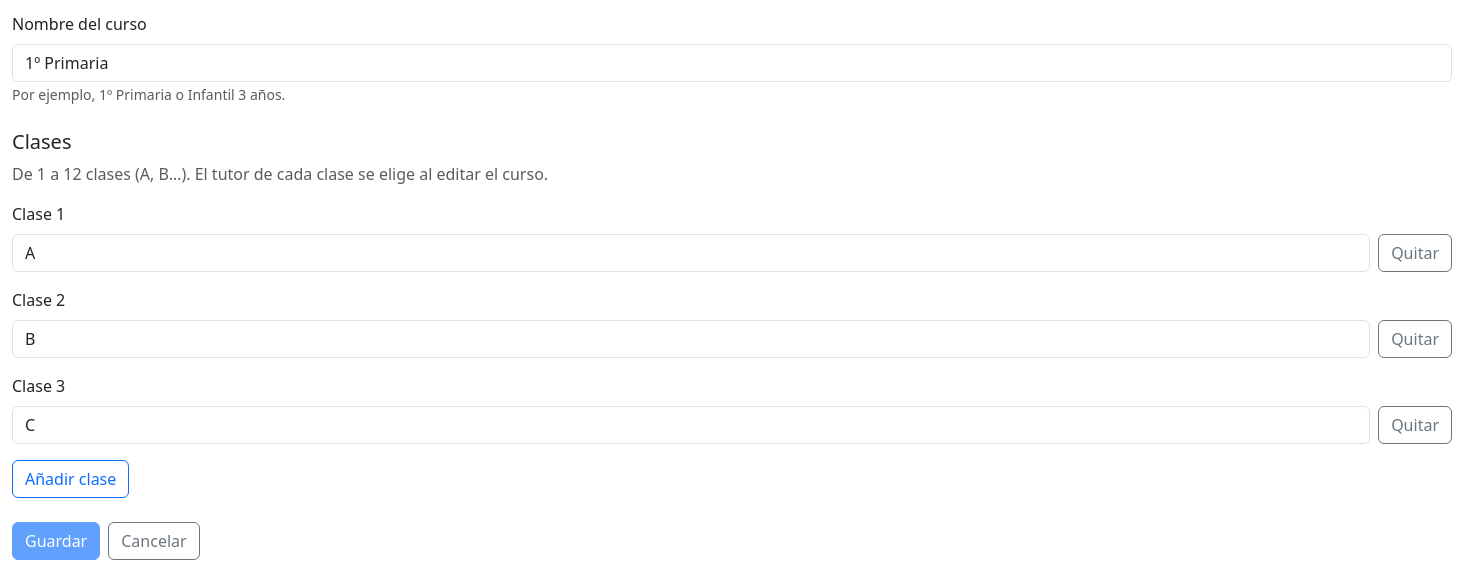
Test: CourseForm that requires changes › keeps Save disabled until something really changes
The width and height of the screenshot is (1464, 577).
Expected: the button "Guardar" is disabled, [12,522,100,560]
Type " Tarde" into the field labelled "Nombre del curso" at [732, 63], box [12,44,1452,82]
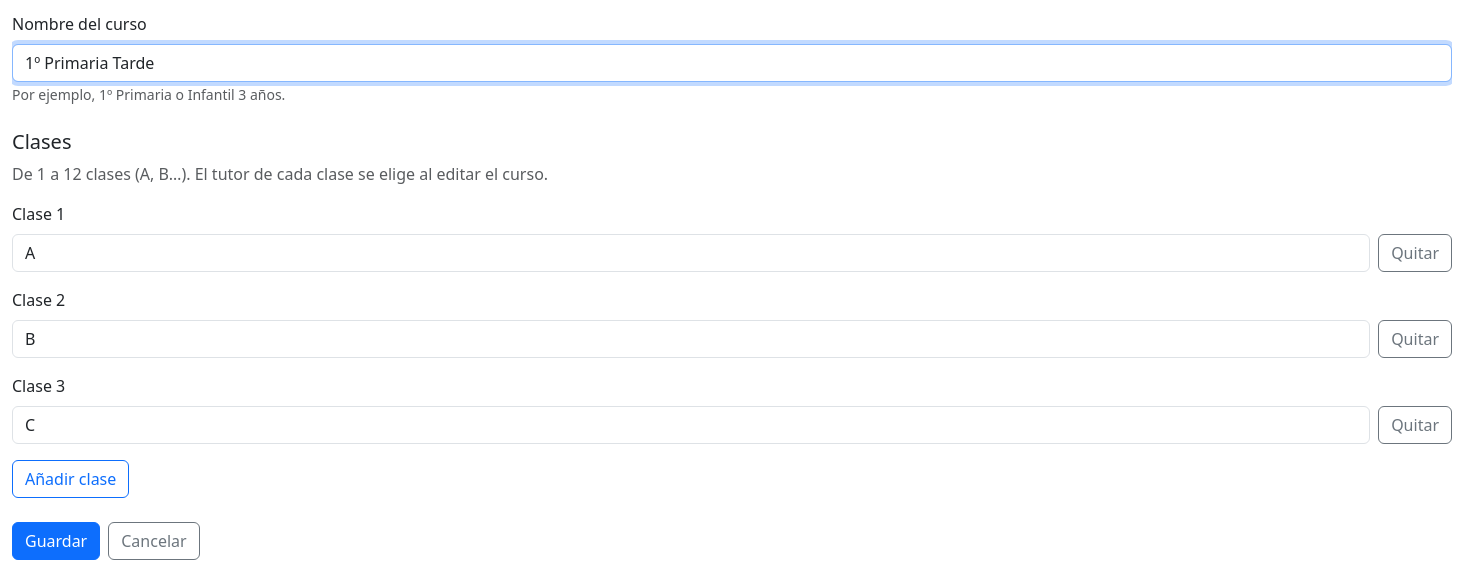
Now the button "Guardar" is enabled, box [12,522,100,560]
